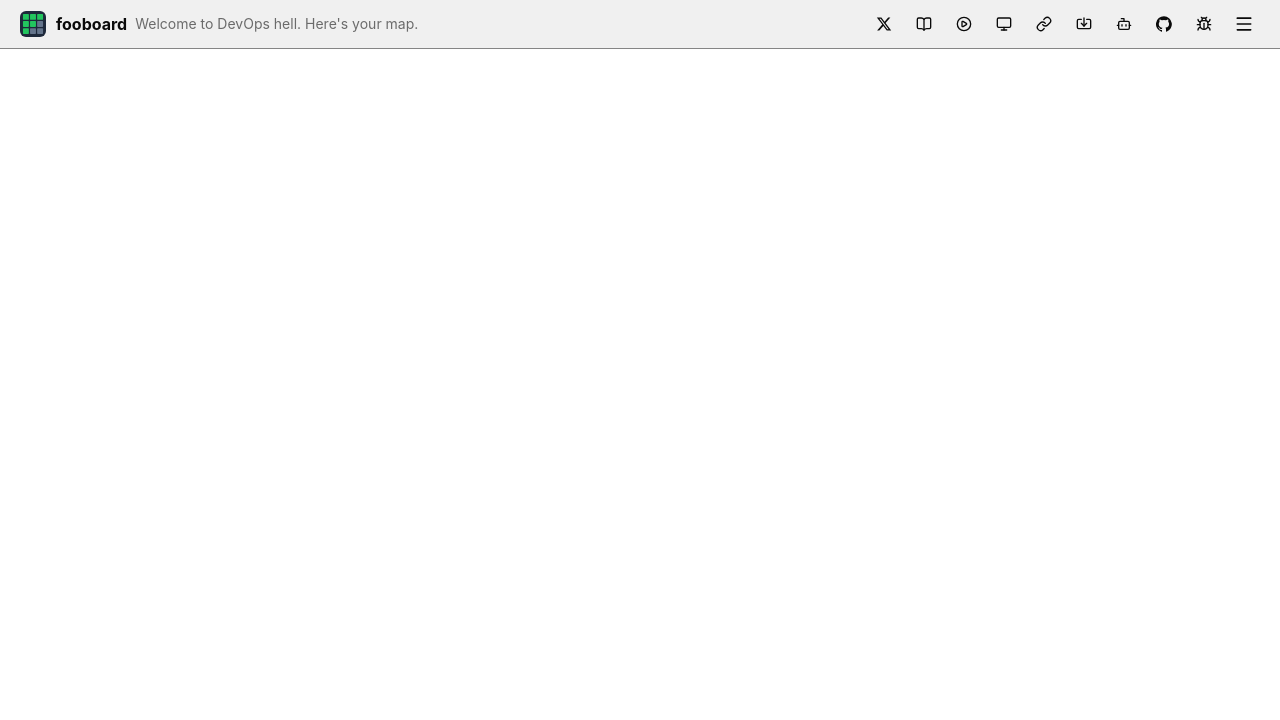
Test case: Header › opens Set up with an AI assistant in its dialog
The width and height of the screenshot is (1280, 720).
Step 1. Click the button named "Set up with an AI assistant" → (1124, 24), box [1108,8,1140,40]
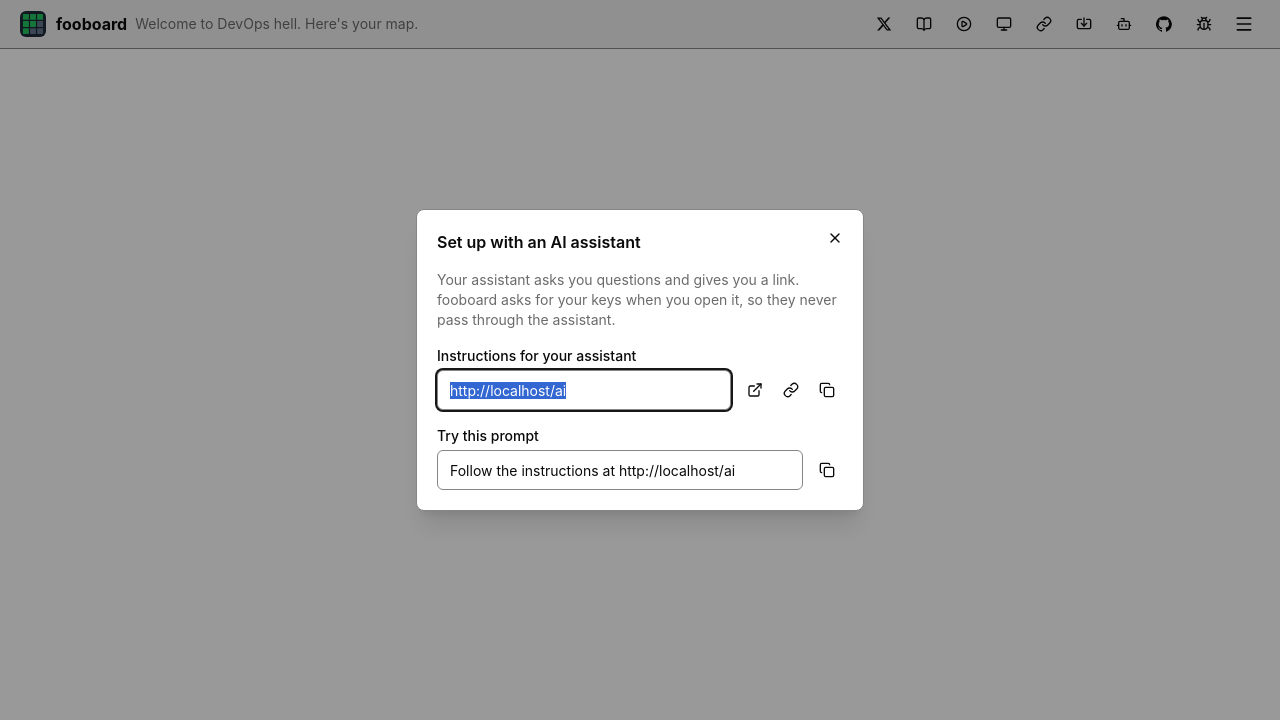
Expected: the dialog "Set up with an AI assistant" is shown, [416,209,864,511]
